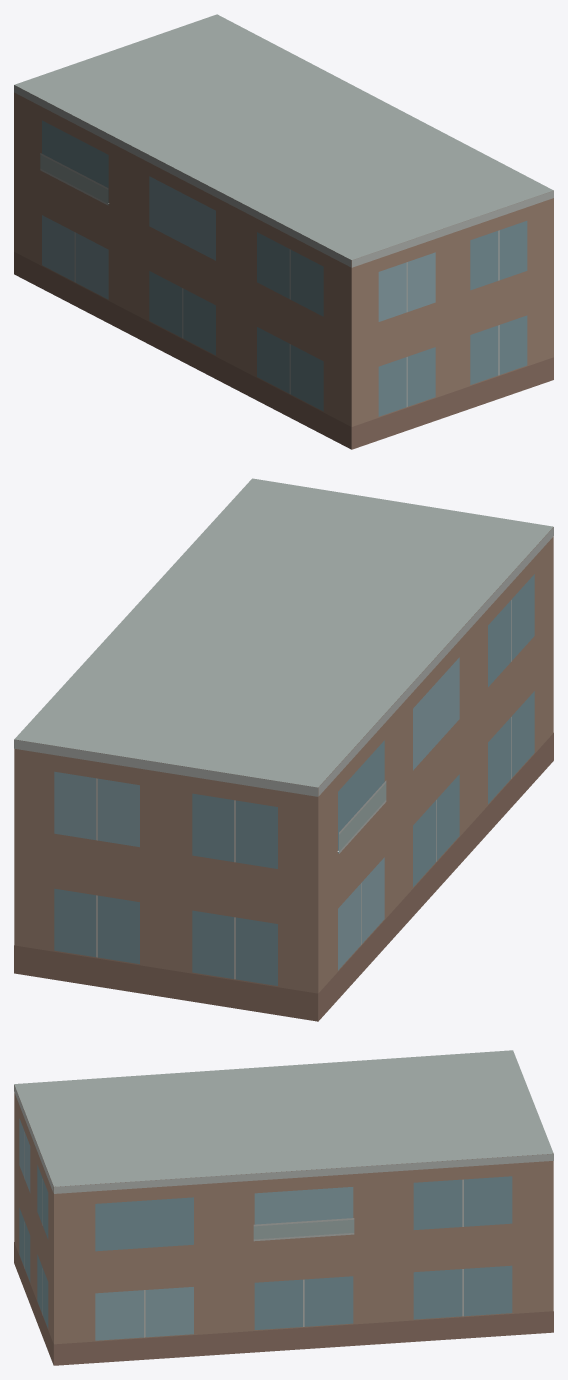
Rendered from survey-upis-32743547.glb.
3 renders of one model, top to bottom at view 1: azimuth 30°, elevation 25°; view 2: azimuth 150°, elevation 25°; view 3: azimuth 270°, elevation 25°, orthographic. The views are drawn at different scales.
Visible parts, largest first — view 1: survey-upis-32743547.tmp; view 2: survey-upis-32743547.tmp; view 3: survey-upis-32743547.tmp.
Part boxes in pixels (x1,y1,x2,y2): survey-upis-32743547.tmp: (14,14,553,449); survey-upis-32743547.tmp: (14,478,553,1021); survey-upis-32743547.tmp: (14,1050,553,1365).
Size of the model in its own units: 10.01 by 6.1 by 16.69.
